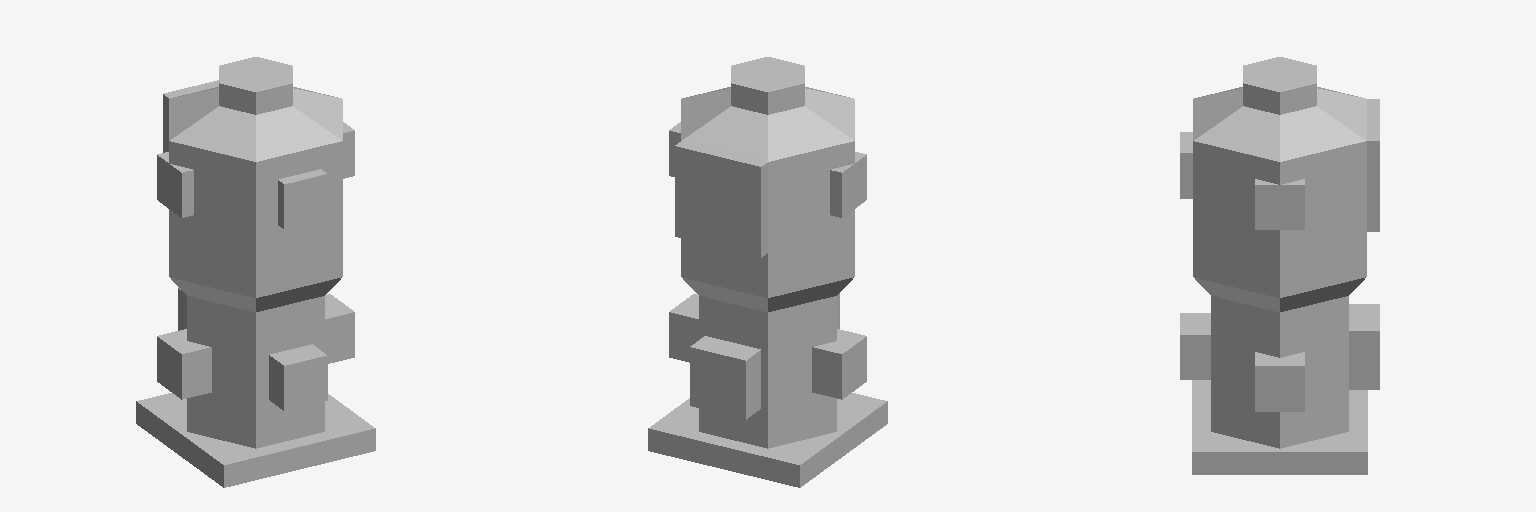
Rendered from thaumatorium.obj.
3 views of the same model, side by side, from view 1: azimuth 30°, elevation 25°; view 2: azimuth 150°, elevation 25°; view 3: azimuth 270°, elevation 25° (orthographic).
Visible parts, largest first — view 1: thaumatorium.001_thaumatorium.001; view 2: thaumatorium.001_thaumatorium.001; view 3: thaumatorium.001_thaumatorium.001.
Boxes of the visible parts, x1=… form: thaumatorium.001_thaumatorium.001: x1=136, y1=57, x2=375, y2=487; thaumatorium.001_thaumatorium.001: x1=648, y1=57, x2=887, y2=487; thaumatorium.001_thaumatorium.001: x1=1180, y1=57, x2=1379, y2=474.
Bounding box in the file's own units: 1 × 2 × 1.